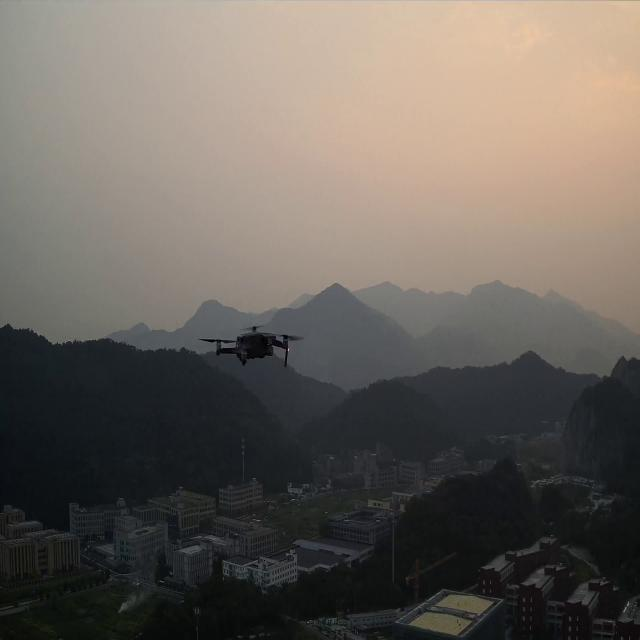UAV: (198, 323, 305, 369)
